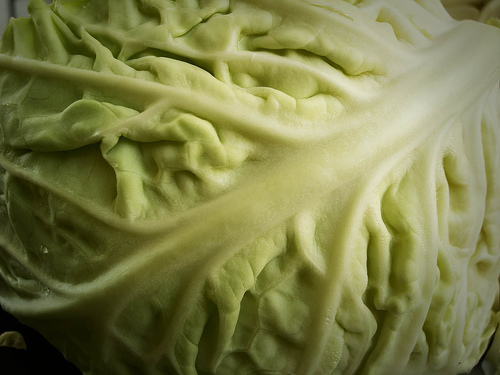cabbage: (1, 0, 499, 372)
